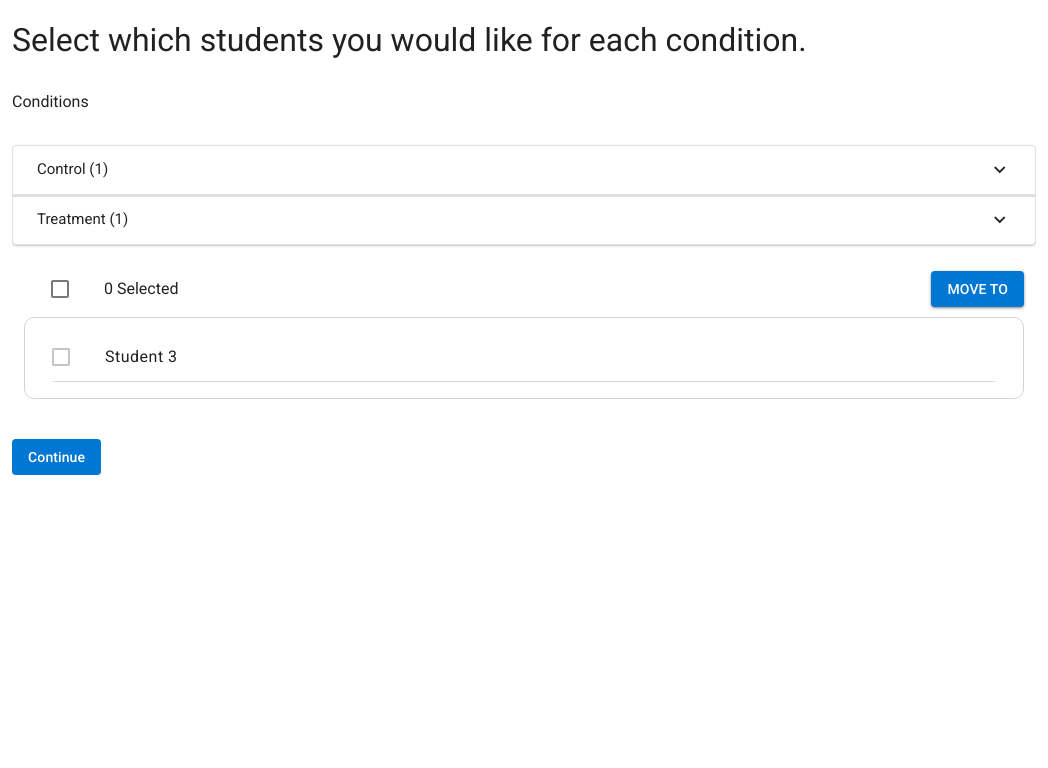
Test: ParticipationManualDistribution › groups consenting participants under their assigned condition and shows the counts
Note: expand the Control panel to confirm its assigned participant shows up
Click the button "Control (1)": coordinates (73, 169) [13,146,1035,194]
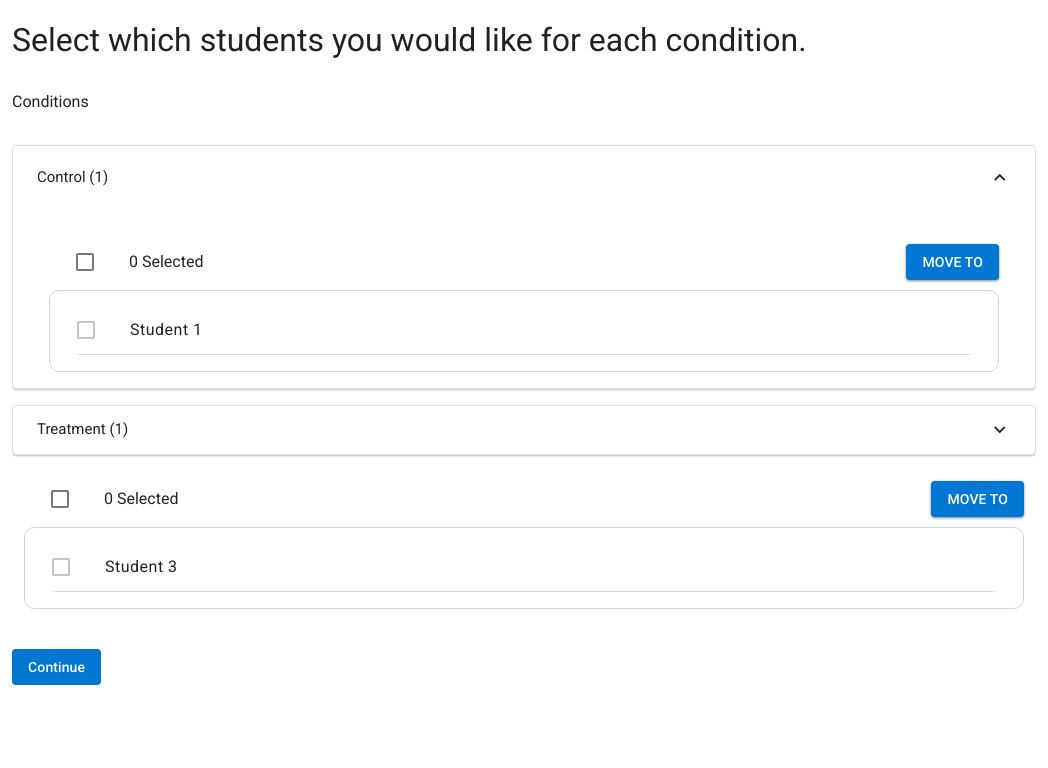
Result: the text "Student 1" is shown at [130,320,203,339]
